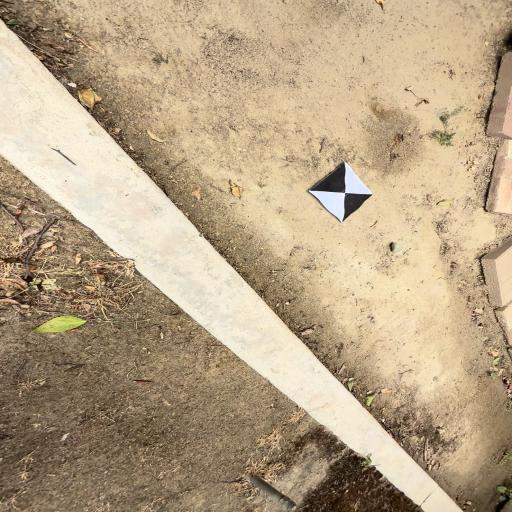target: (309, 162, 373, 222)
